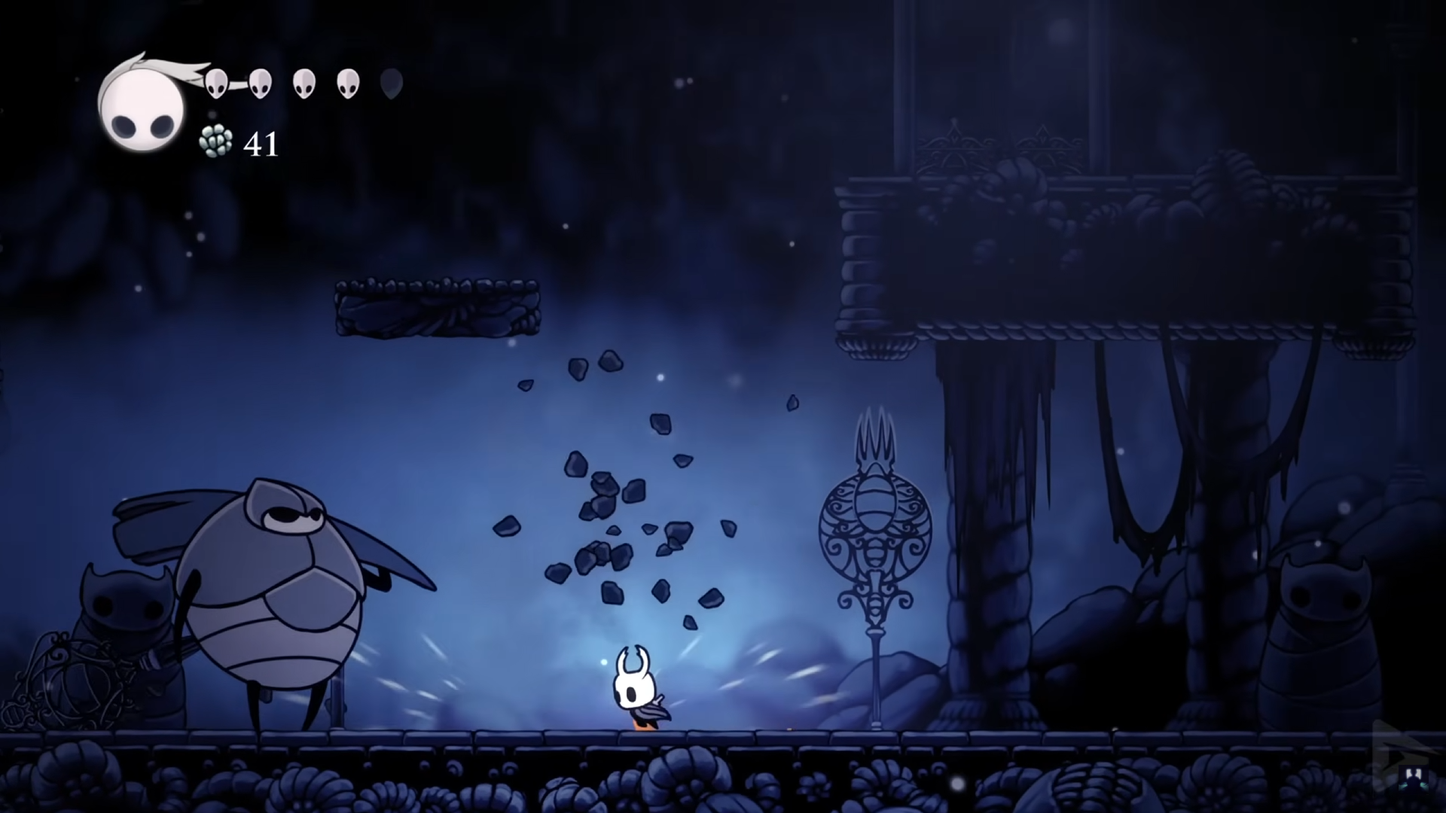HK: (606, 645, 675, 733)
